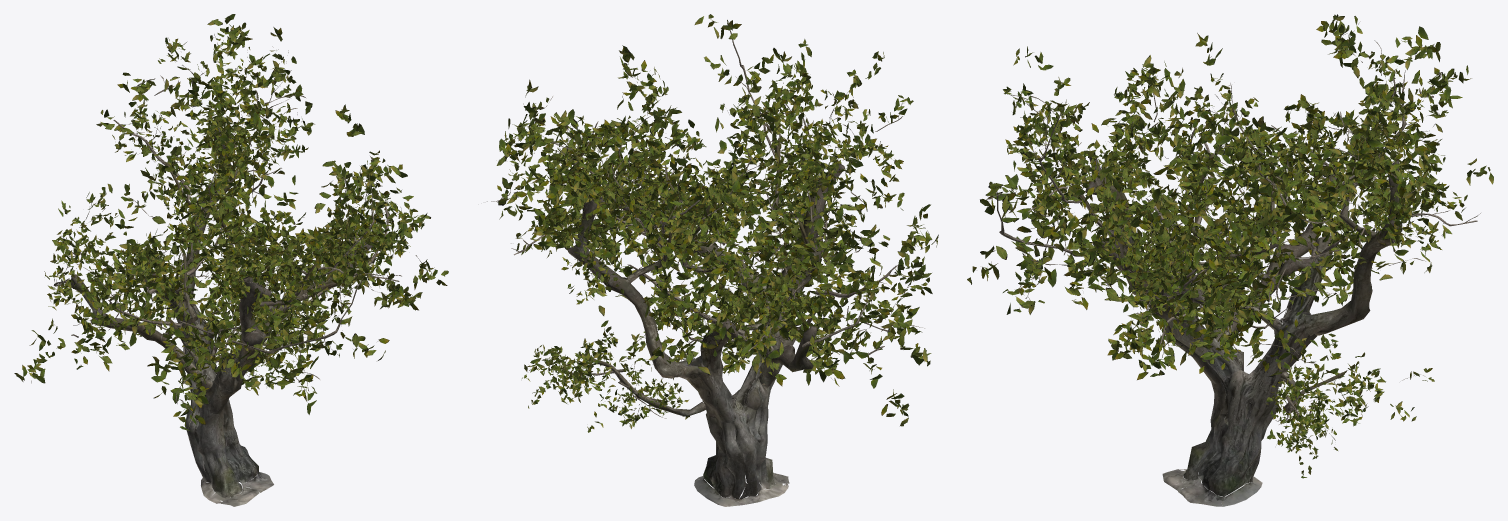
The model's file is island_tree_01.glb.
3 renders of one model, left to right at view 1: azimuth 30°, elevation 25°; view 2: azimuth 150°, elevation 25°; view 3: azimuth 270°, elevation 25°, orthographic. The views are drawn at different scales.
Parts seen in each view (by area): view 1: island_tree_01_web; view 2: island_tree_01_web; view 3: island_tree_01_web.
Boxes of the visible parts, <box> form: island_tree_01_web: <box>14,14,448,506</box>; island_tree_01_web: <box>487,14,938,506</box>; island_tree_01_web: <box>967,14,1493,506</box>.
Bounding box in the file's own units: 4.76 × 5.02 × 4.75.
Materials: 3 (3 with a texture image).
